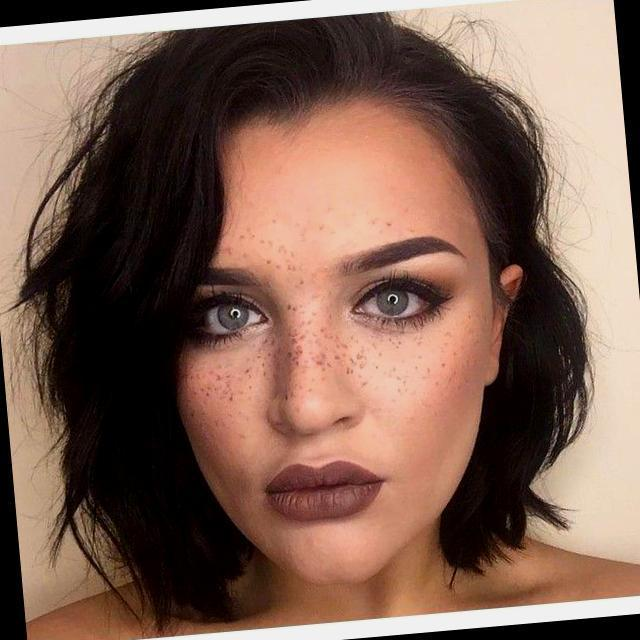freckle: (181, 313, 477, 425), (211, 198, 399, 304)
